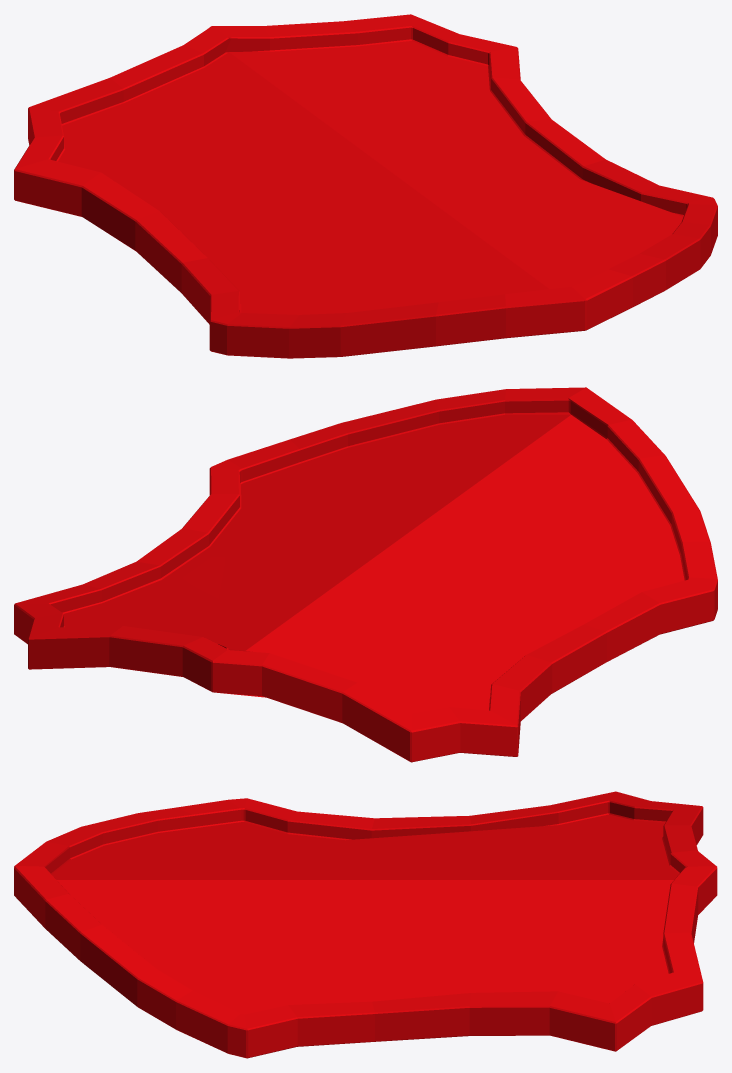
The model's file is Shild_5.fbx.
The picture shows the model from 3 angles, top to bottom: view 1: azimuth 30°, elevation 25°; view 2: azimuth 150°, elevation 25°; view 3: azimuth 270°, elevation 25°; orthographic projection. The views are drawn at different scales.
Parts seen in each view (by area): view 1: Shild-5; view 2: Shild-5; view 3: Shild-5.
Boxes of the visible parts, x1,y1,x2,y2 form: Shild-5: [14, 14, 717, 358]; Shild-5: [14, 387, 717, 762]; Shild-5: [14, 791, 717, 1058].
Size of the model in its own units: 143 by 22.75 by 184.
